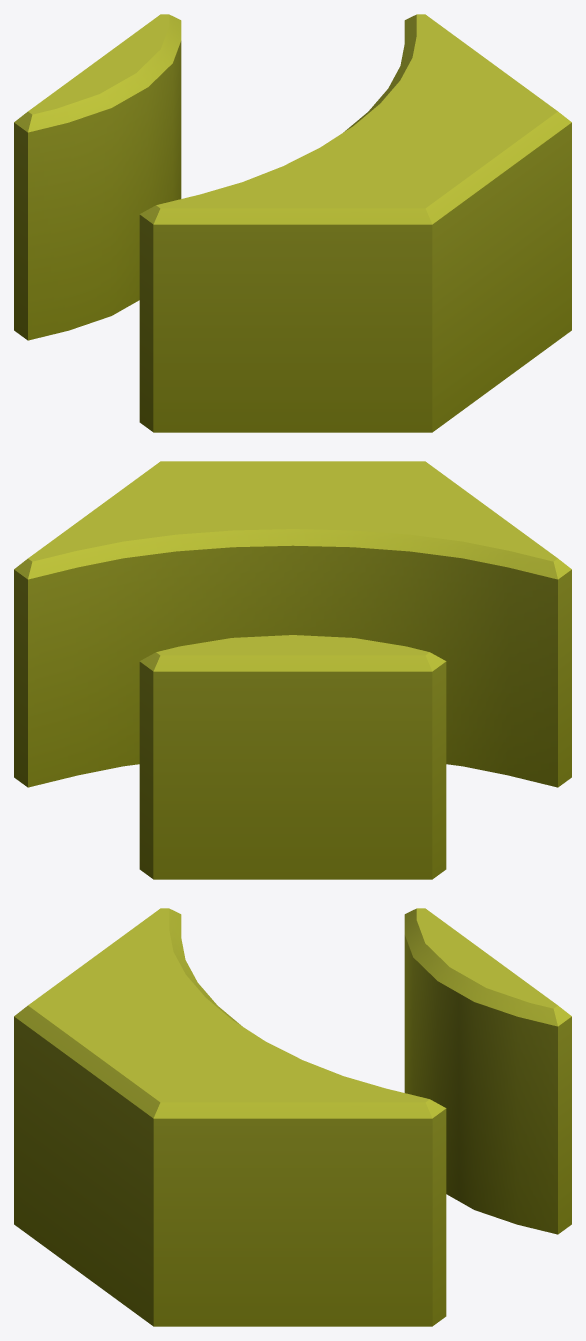
Rendered from hex_river_B_waterless.glb.
The picture shows the model from 3 angles, top to bottom: view 1: azimuth 30°, elevation 25°; view 2: azimuth 150°, elevation 25°; view 3: azimuth 270°, elevation 25°; orthographic projection.
Parts seen in each view (by area): view 1: hex_river_B_waterless; view 2: hex_river_B_waterless; view 3: hex_river_B_waterless.
Part boxes in pixels (left/top/right/bottom): hex_river_B_waterless: left=14, top=14, right=571, bottom=432; hex_river_B_waterless: left=14, top=461, right=571, bottom=879; hex_river_B_waterless: left=14, top=908, right=571, bottom=1326.
Bounding box in the file's own units: 2 × 1 × 2.31.
1 material, 1 textured.
